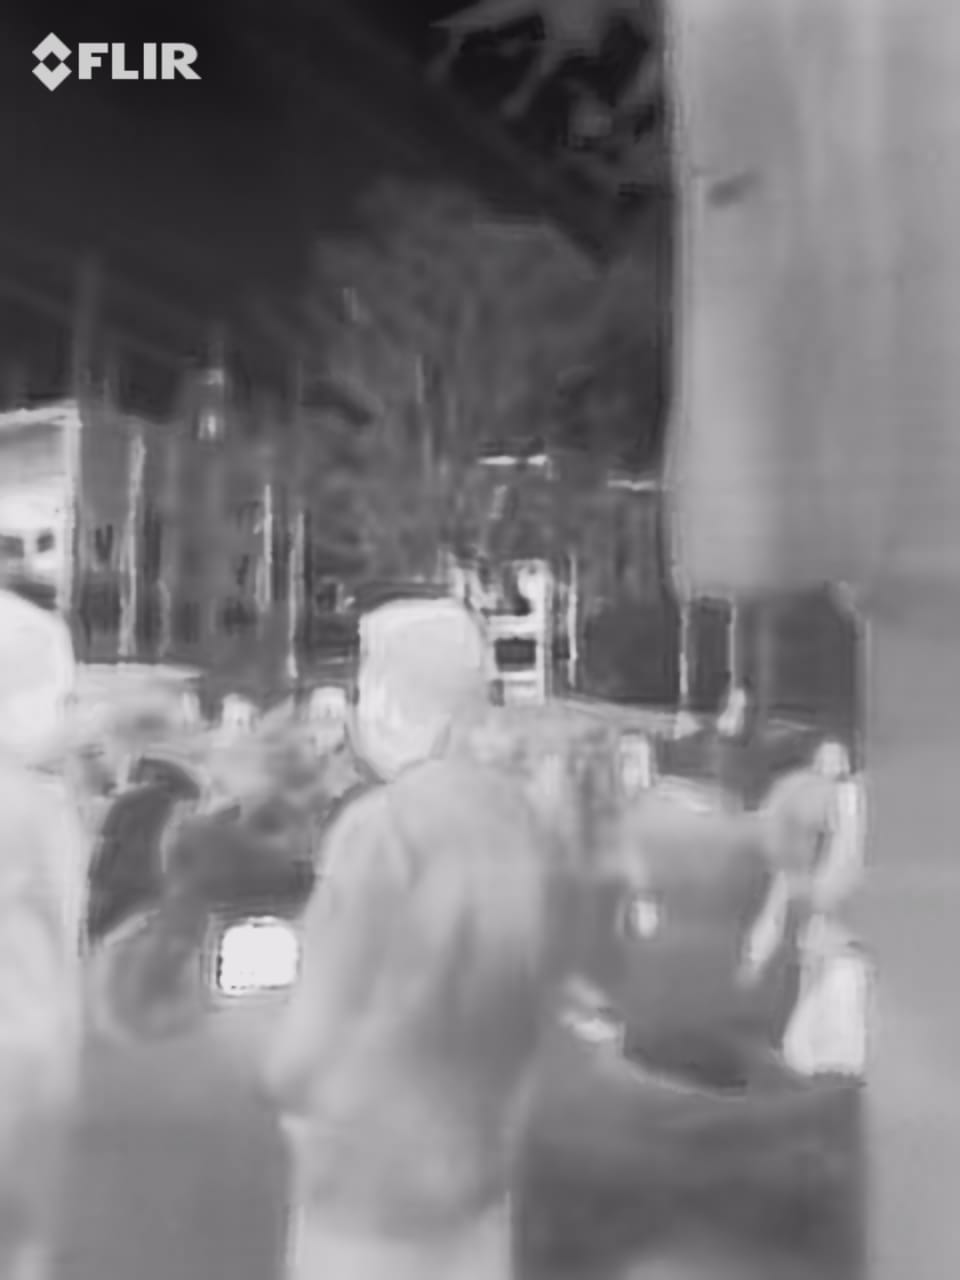head: (341, 581, 511, 788)
